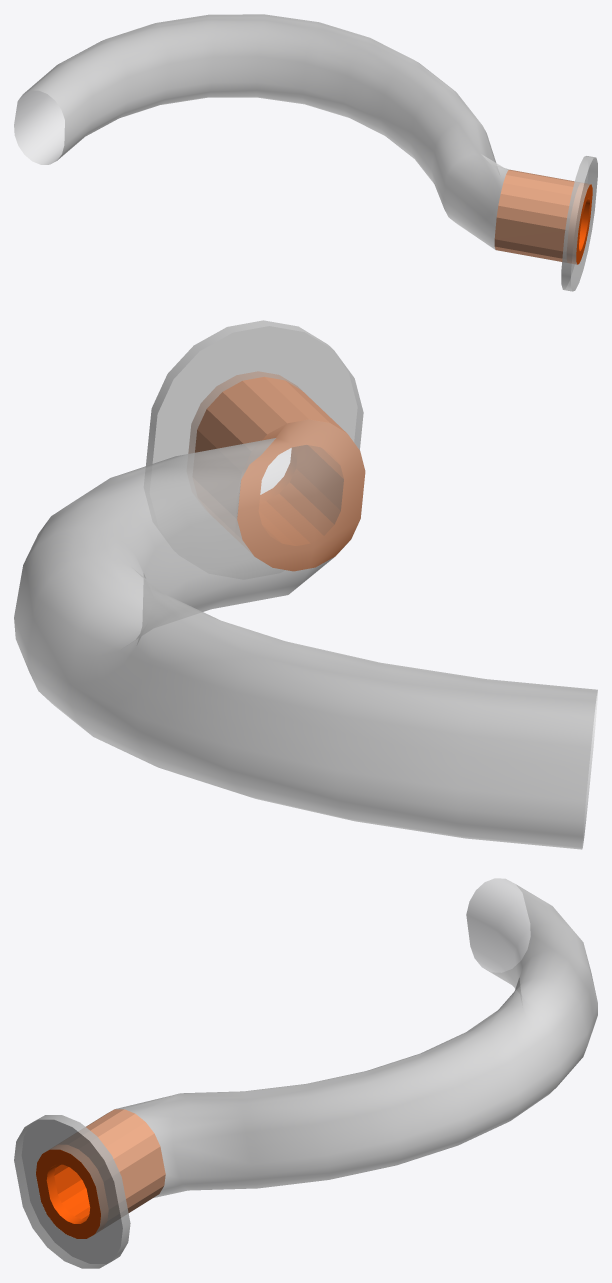
File: Anethesia Cart - Mayo Tube M.FBX
The picture shows the model from 3 angles, top to bottom: view 1: azimuth 30°, elevation 25°; view 2: azimuth 150°, elevation 25°; view 3: azimuth 270°, elevation 25°; orthographic projection. The views are drawn at different scales.
Parts seen in each view (by area): view 1: MayoTube007; view 2: MayoTube007; view 3: MayoTube007.
Part boxes in pixels (x1,y1,x2,y2): MayoTube007: (14,14,597,291); MayoTube007: (14,320,597,849); MayoTube007: (14,878,597,1268).
Bounding box in the file's own units: 6.7 × 2.57 × 7.05.
